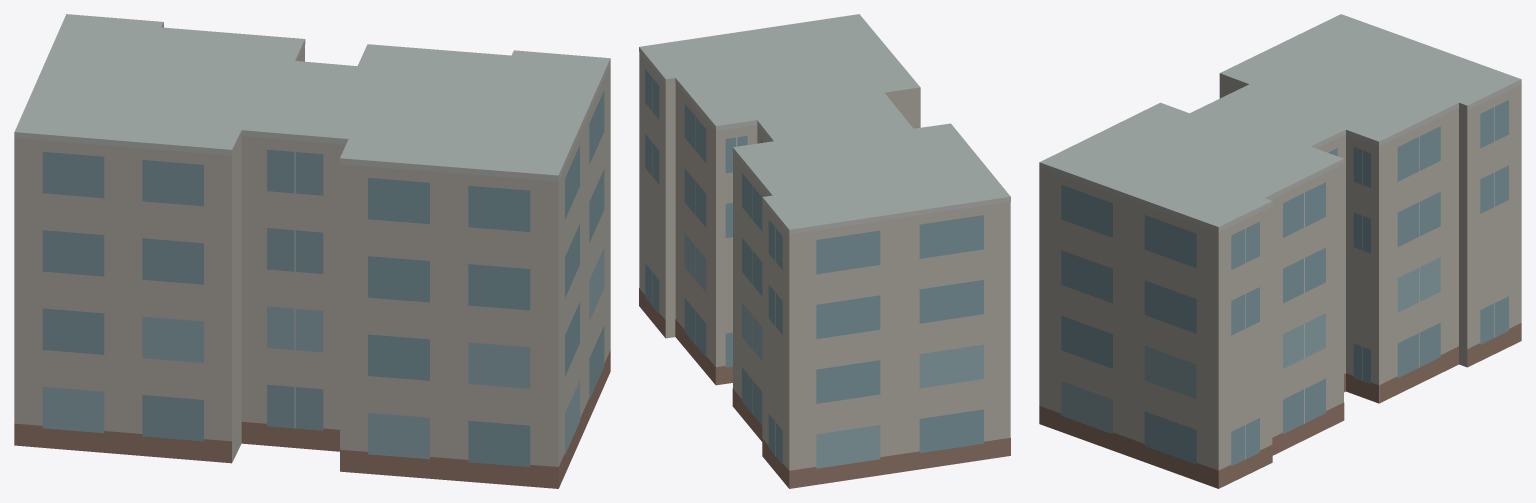
File: survey-upis-32908102.glb
3 renders of one model, left to right at view 1: azimuth 30°, elevation 25°; view 2: azimuth 150°, elevation 25°; view 3: azimuth 270°, elevation 25°, orthographic. The views are drawn at different scales.
Parts seen in each view (by area): view 1: survey-upis-32908102.tmp; view 2: survey-upis-32908102.tmp; view 3: survey-upis-32908102.tmp.
Part boxes in pixels (<box>): survey-upis-32908102.tmp: <box>14,14,610,488</box>; survey-upis-32908102.tmp: <box>639,14,1010,488</box>; survey-upis-32908102.tmp: <box>1039,14,1521,488</box>.
Bounding box in the file's own units: 22.53 × 12.9 × 21.54.
